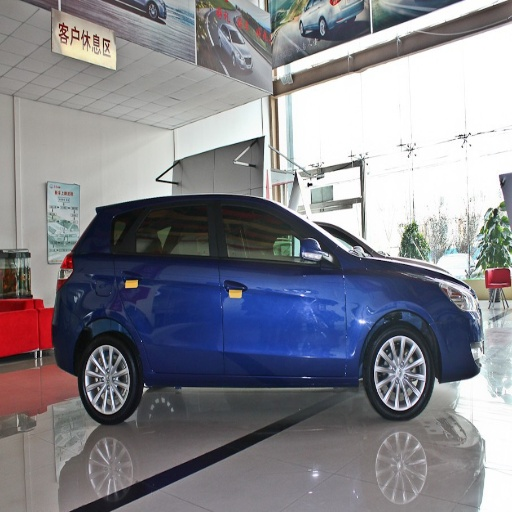back_right_door: (120, 199, 223, 375)
front_right_door: (216, 199, 352, 375)
